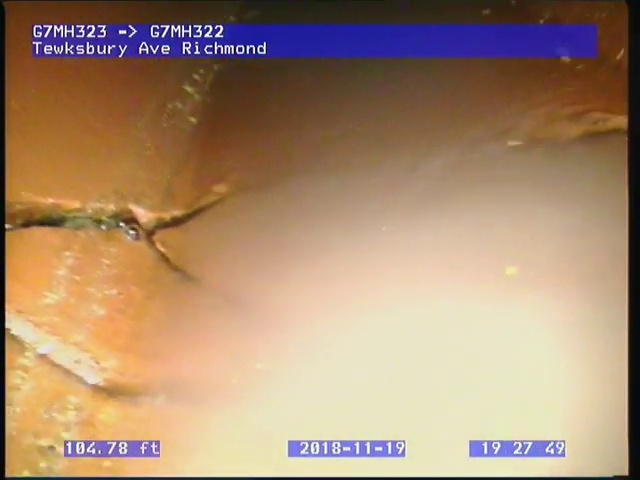crack: (8, 178, 232, 289), (564, 110, 627, 147)
